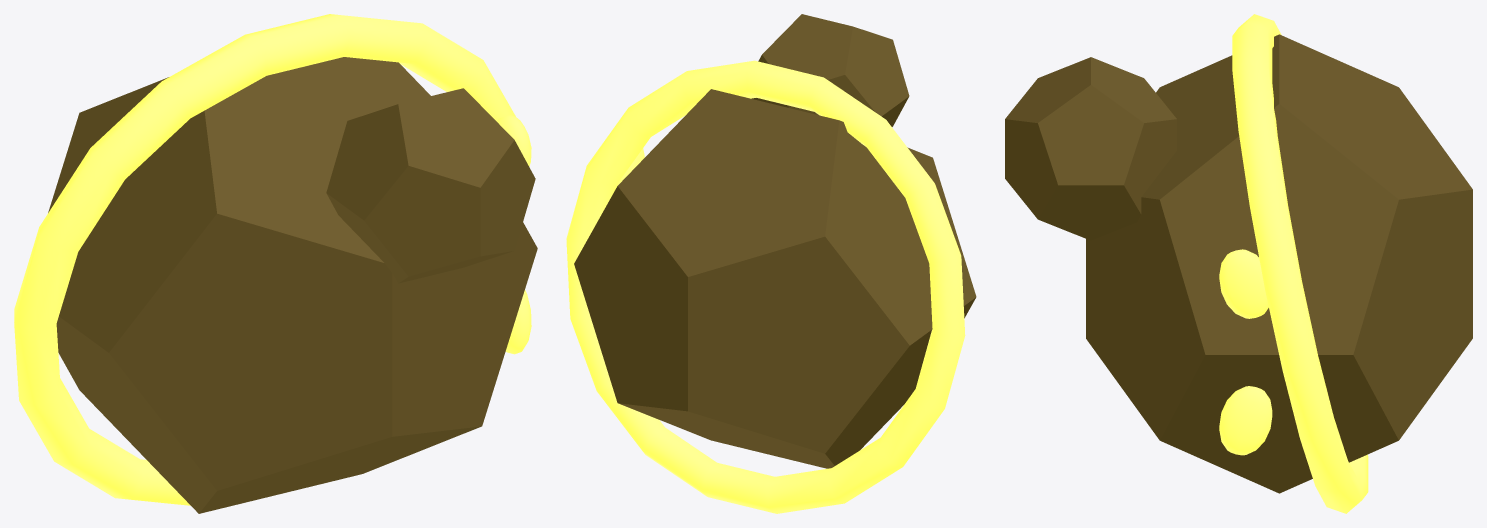
The model's file is trauma-pycha.glb.
3 views of the same model, side by side, from view 1: azimuth 30°, elevation 25°; view 2: azimuth 150°, elevation 25°; view 3: azimuth 270°, elevation 25° (orthographic). The views are drawn at different scales.
Parts seen in each view (by area): view 1: Shadow, Glow; view 2: Shadow, Glow; view 3: Shadow, Glow.
Boxes of the visible parts, bbox=[...] form: Shadow: bbox=[48, 57, 537, 513]; Glow: bbox=[14, 14, 531, 505]; Shadow: bbox=[574, 14, 976, 468]; Glow: bbox=[566, 60, 965, 513]; Shadow: bbox=[1005, 34, 1472, 493]; Glow: bbox=[1219, 14, 1368, 513].
Size of the model in its own units: 1.22 by 1.18 by 1.12.
